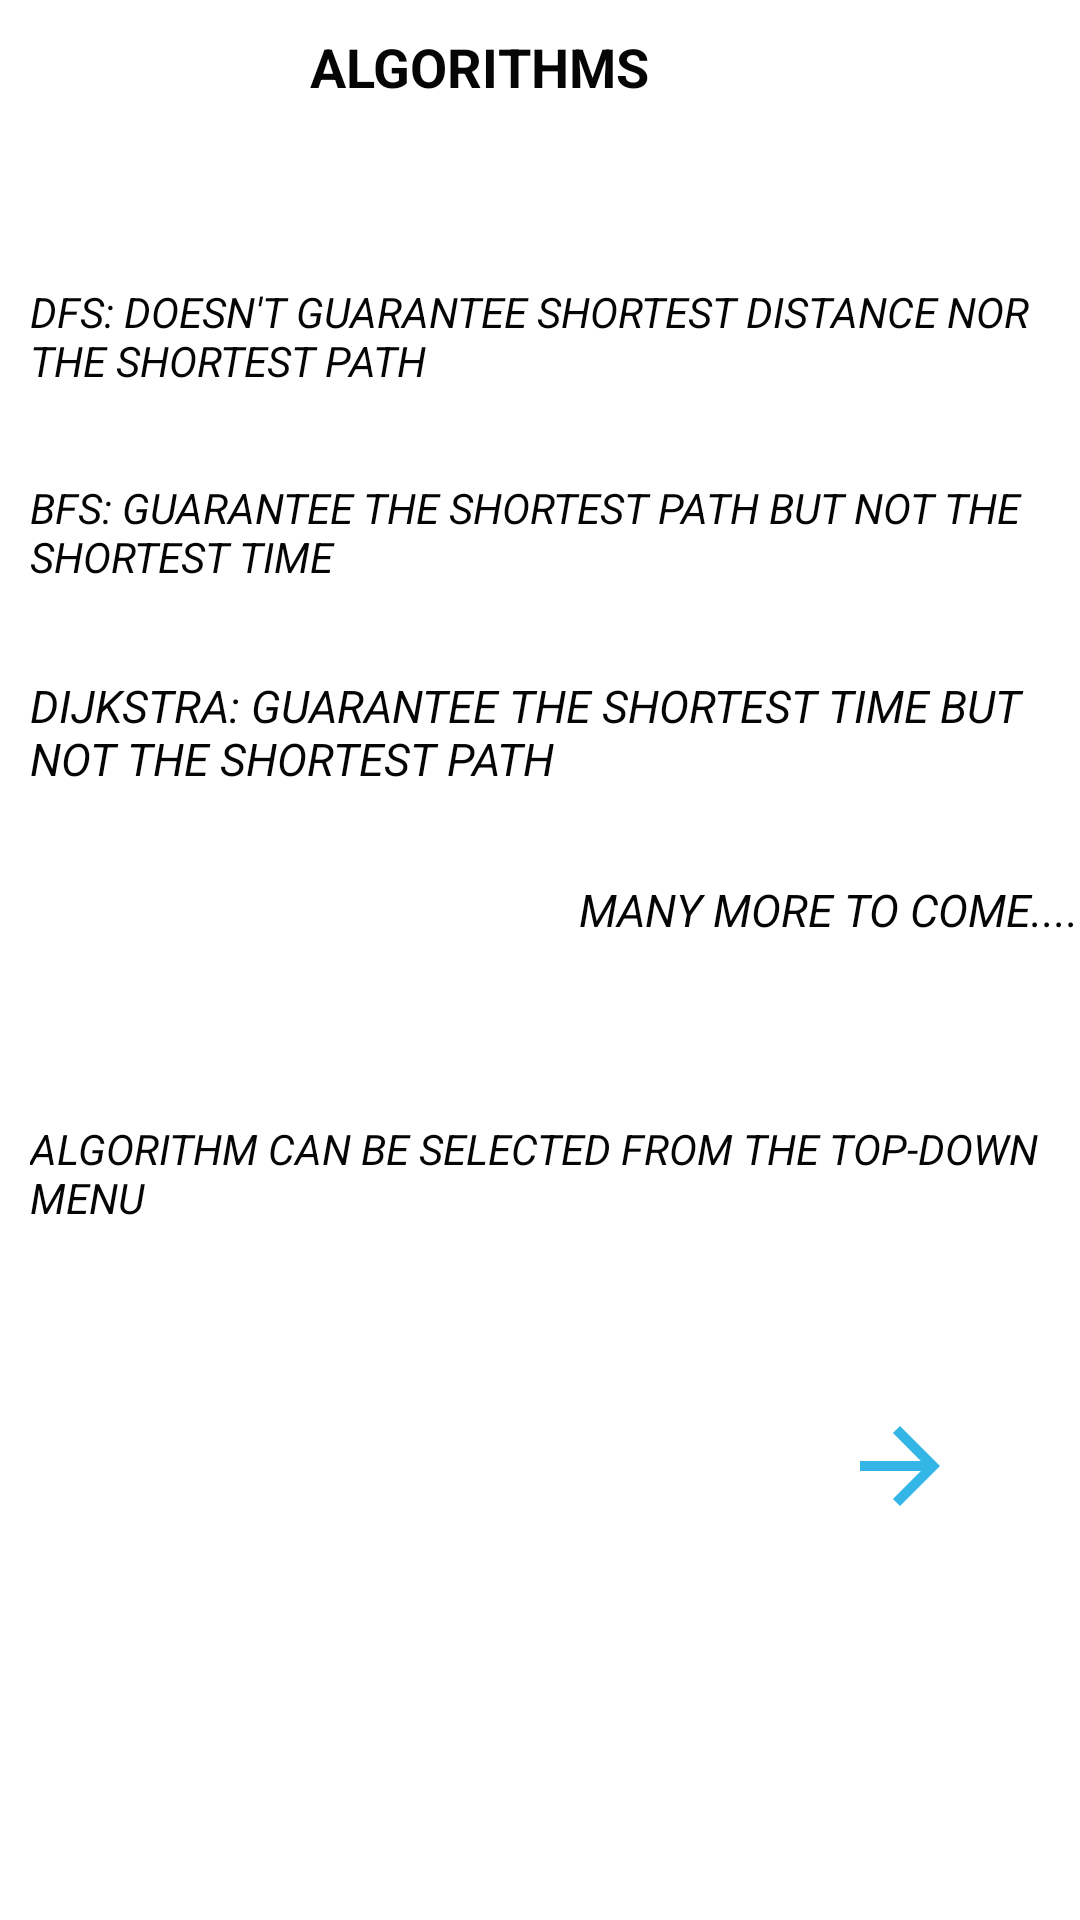

Icon bounding boxes for this 1080 x 1920 phone screenshot, format box=[x1, y1, x2, y2]:
arrow forward: box=[860, 1426, 940, 1506]
